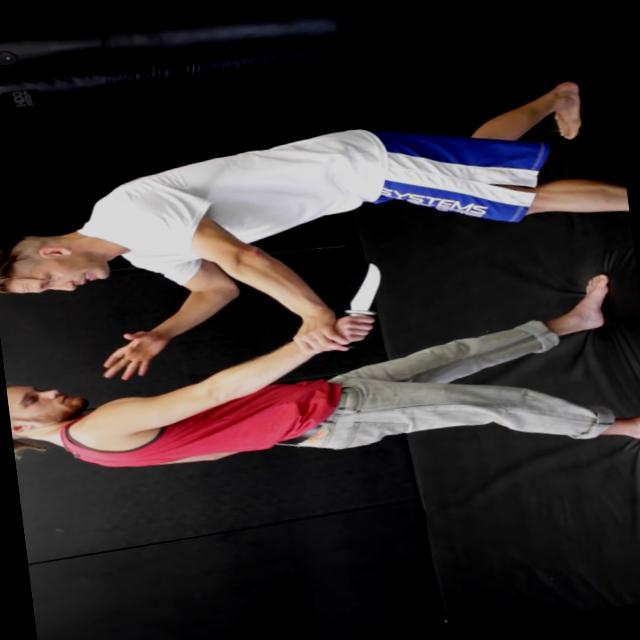knife: (327, 255, 400, 352)
